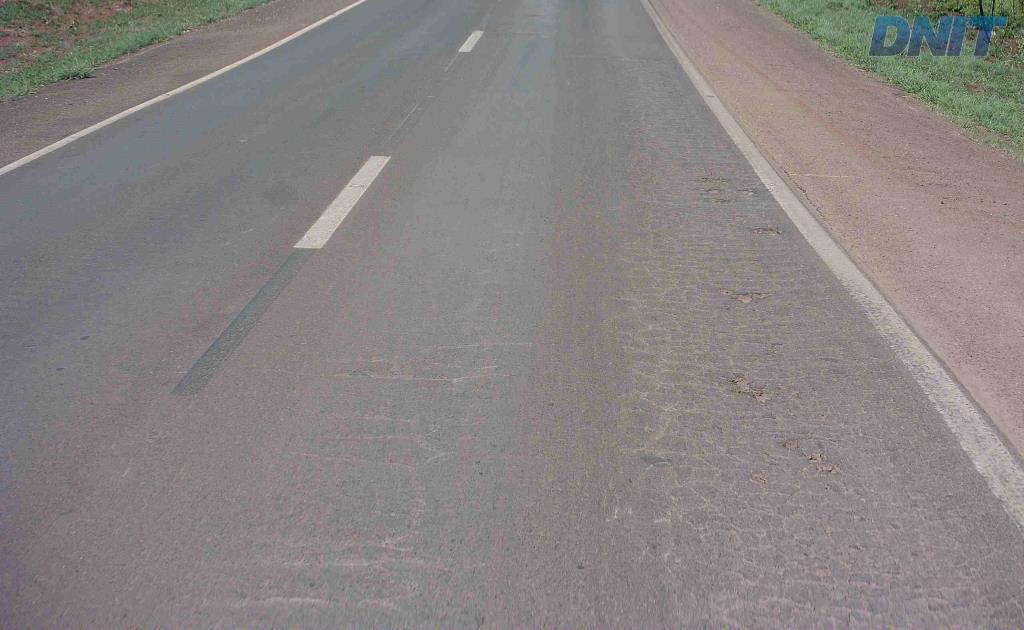pothole: (725, 364, 778, 408), (777, 438, 836, 474), (720, 282, 771, 306), (751, 221, 783, 236), (737, 183, 756, 198), (703, 184, 720, 195)
